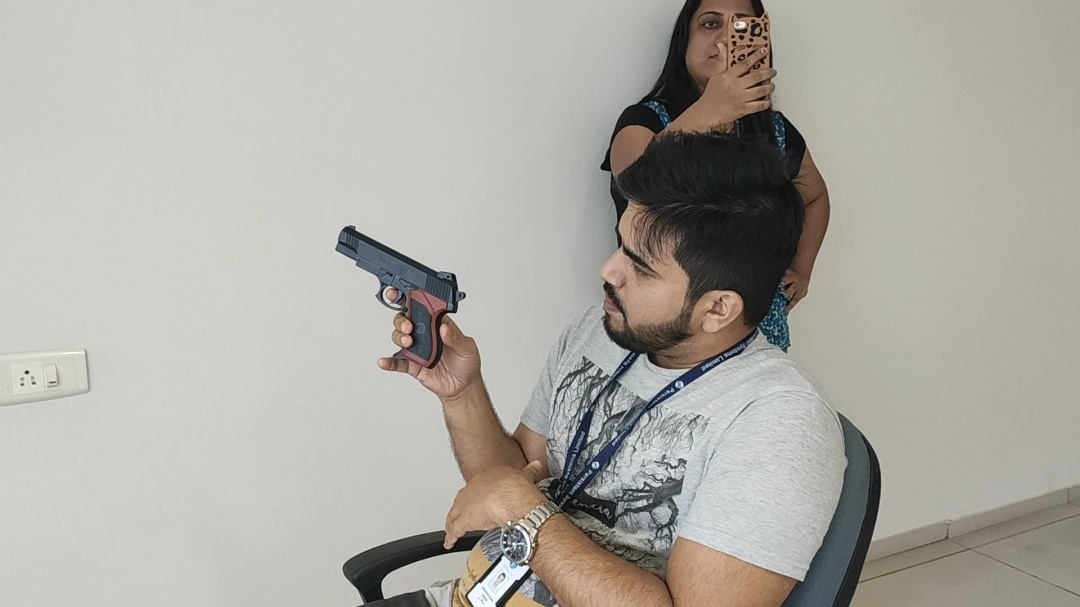gun: (334, 223, 466, 369)
